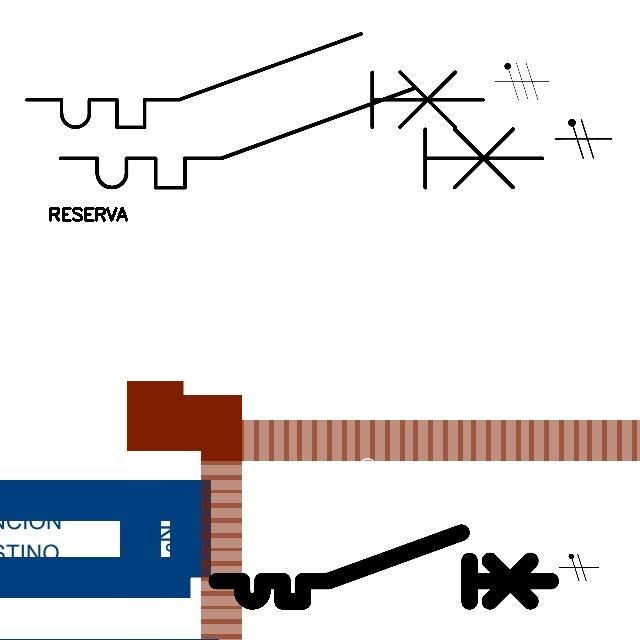interruptor_termomagnetico: (48, 76, 554, 200), (15, 22, 494, 139), (208, 524, 559, 610)
